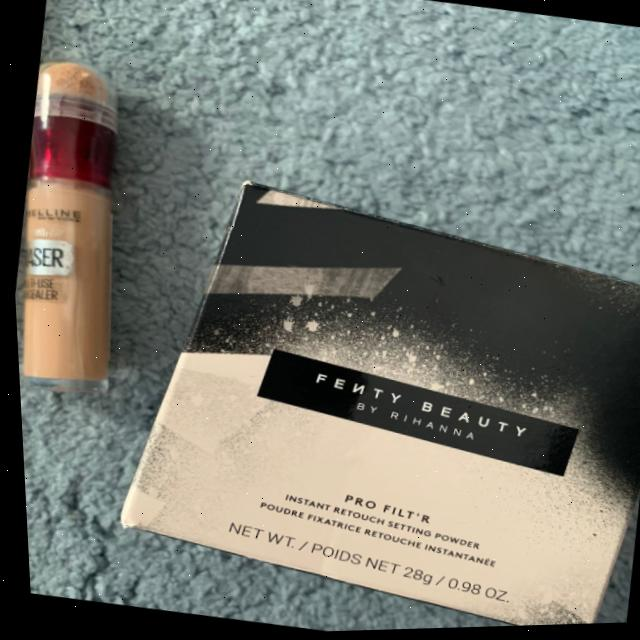concealer: (1, 29, 177, 416)
makeup: (81, 155, 640, 638)
